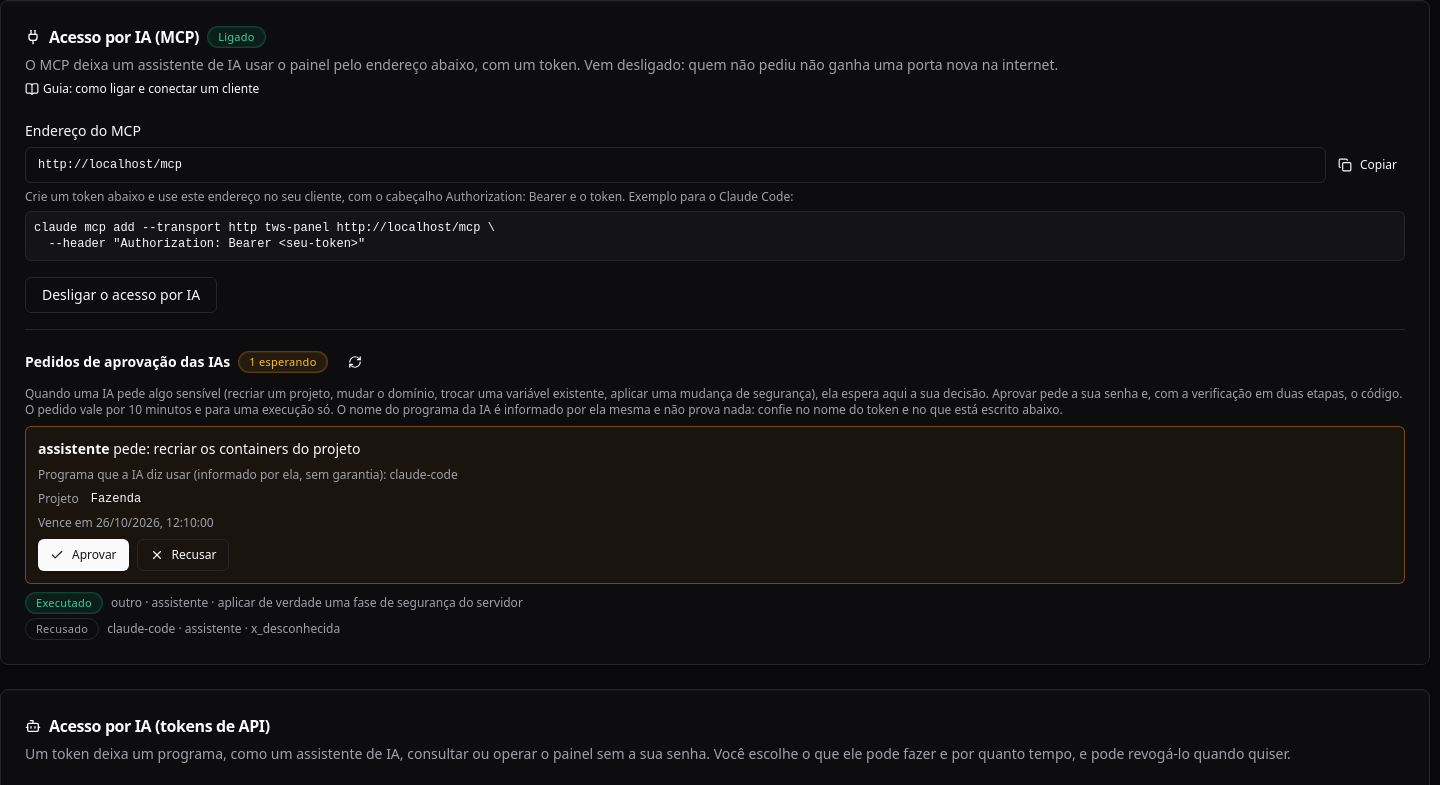
Scenario: MCP: pedidos de aprovação › erros de aprovar e recusar aparecem no próprio pedido; erro de lista fica no bloco
The width and height of the screenshot is (1440, 785).
Click the button "Recusar". click: click(183, 555)
box: [137,539,230,571]
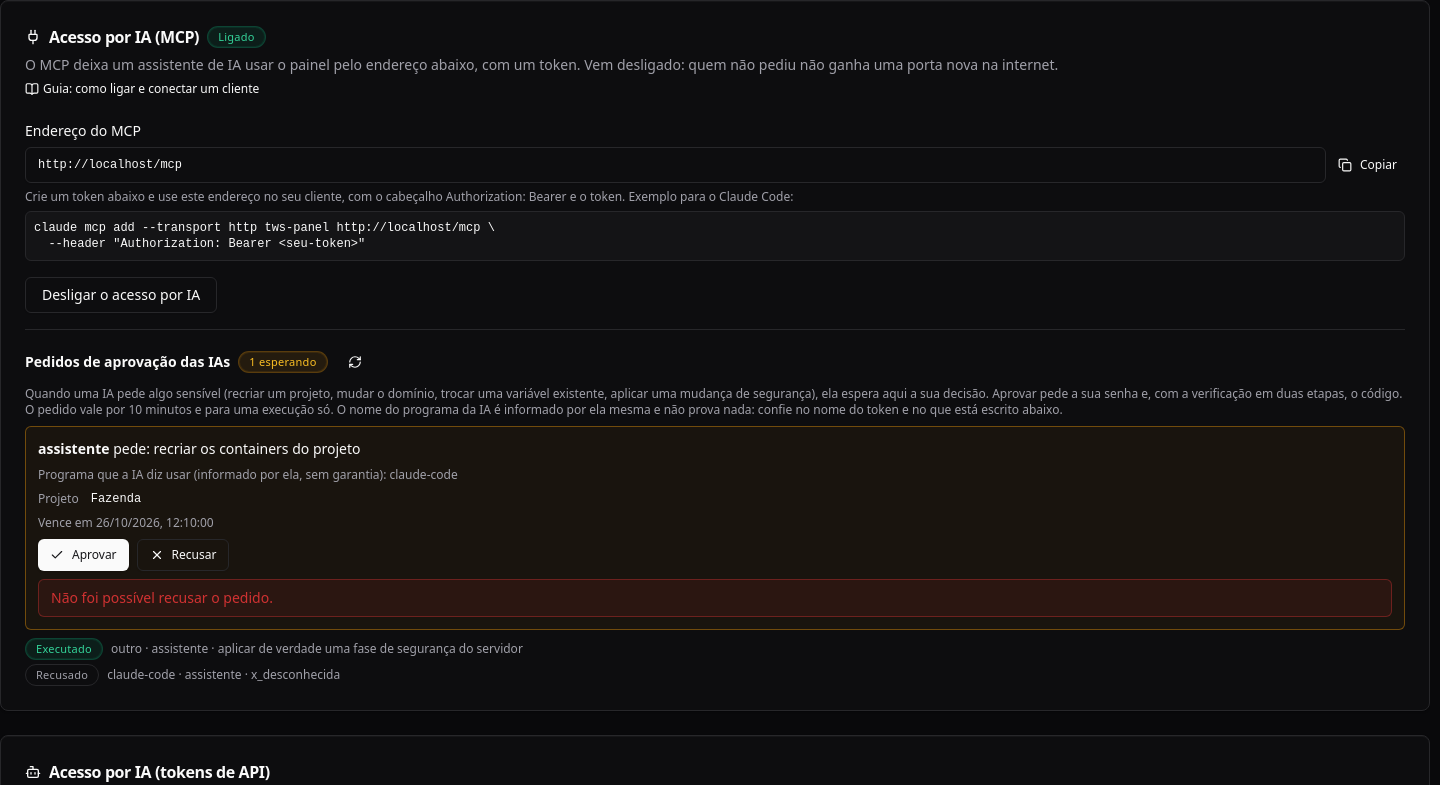
Now the message reads "Não foi possível recusar o pedido.", box [51,588,273,607]
Click the button "Aprovar". click: click(83, 555)
box: [38,539,129,571]
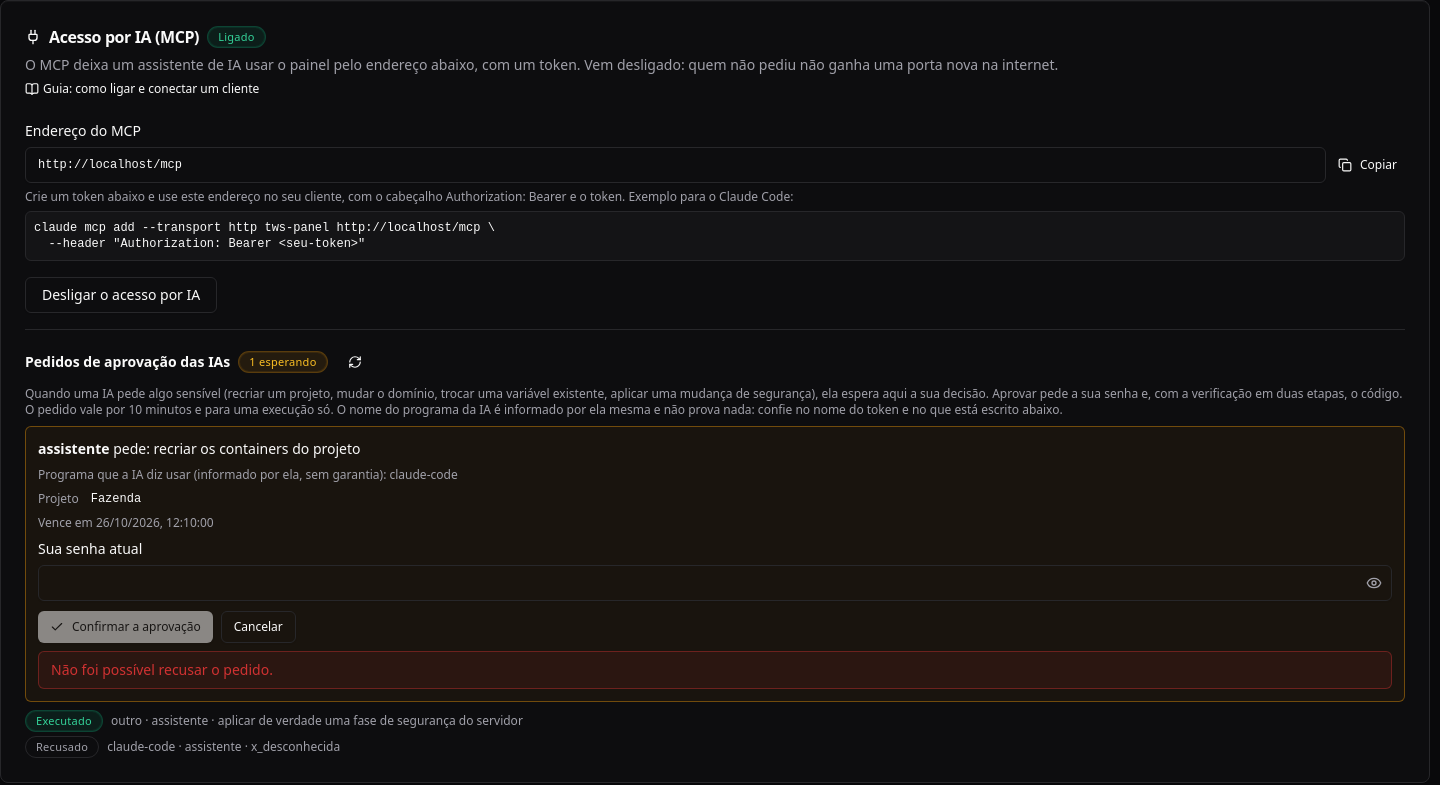
Type "x" into the password field labelled "Sua senha atual". click: (715, 583)
box: [38,565,1392,601]
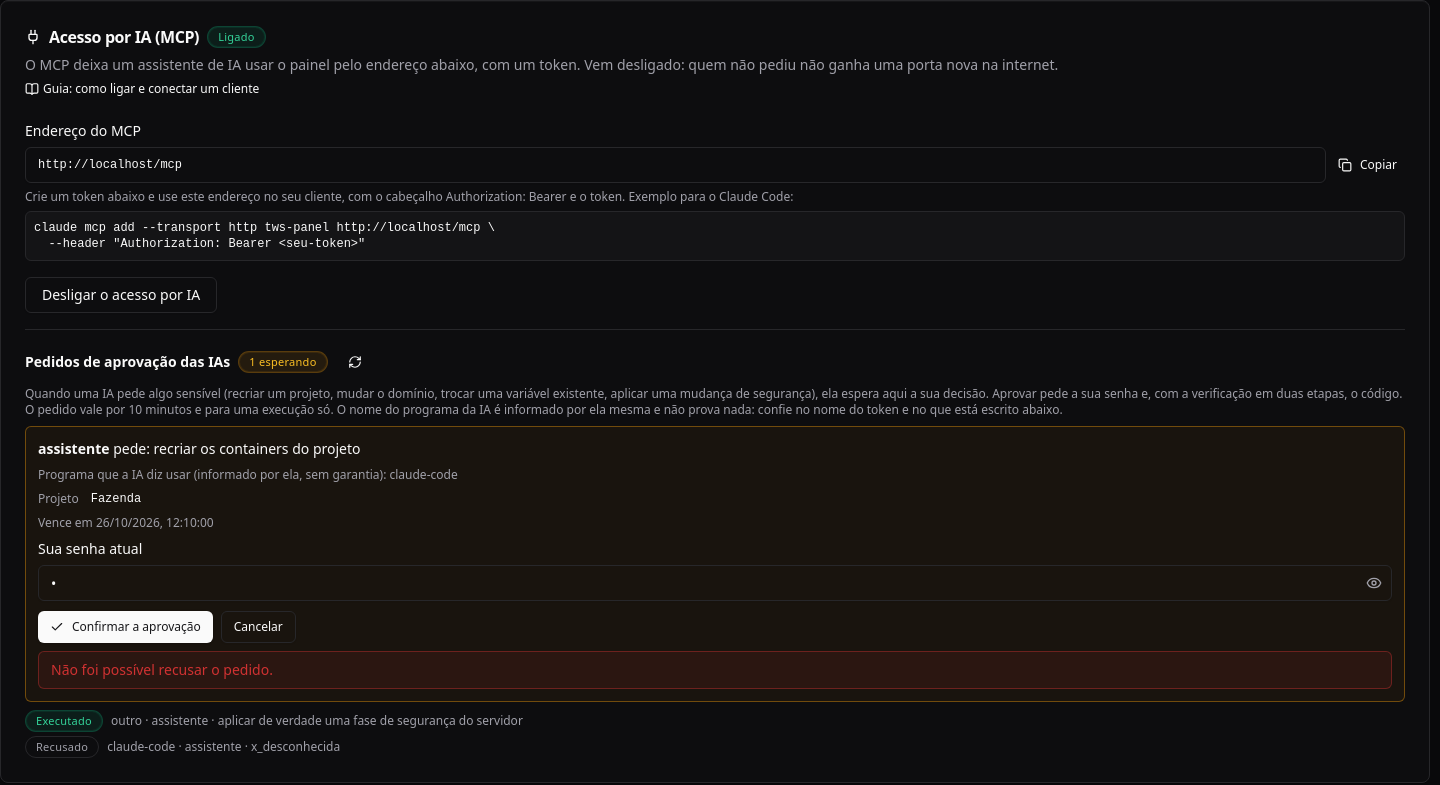
Click the button "Confirmar a aprovação". click: click(125, 627)
box: [38,611,213,643]
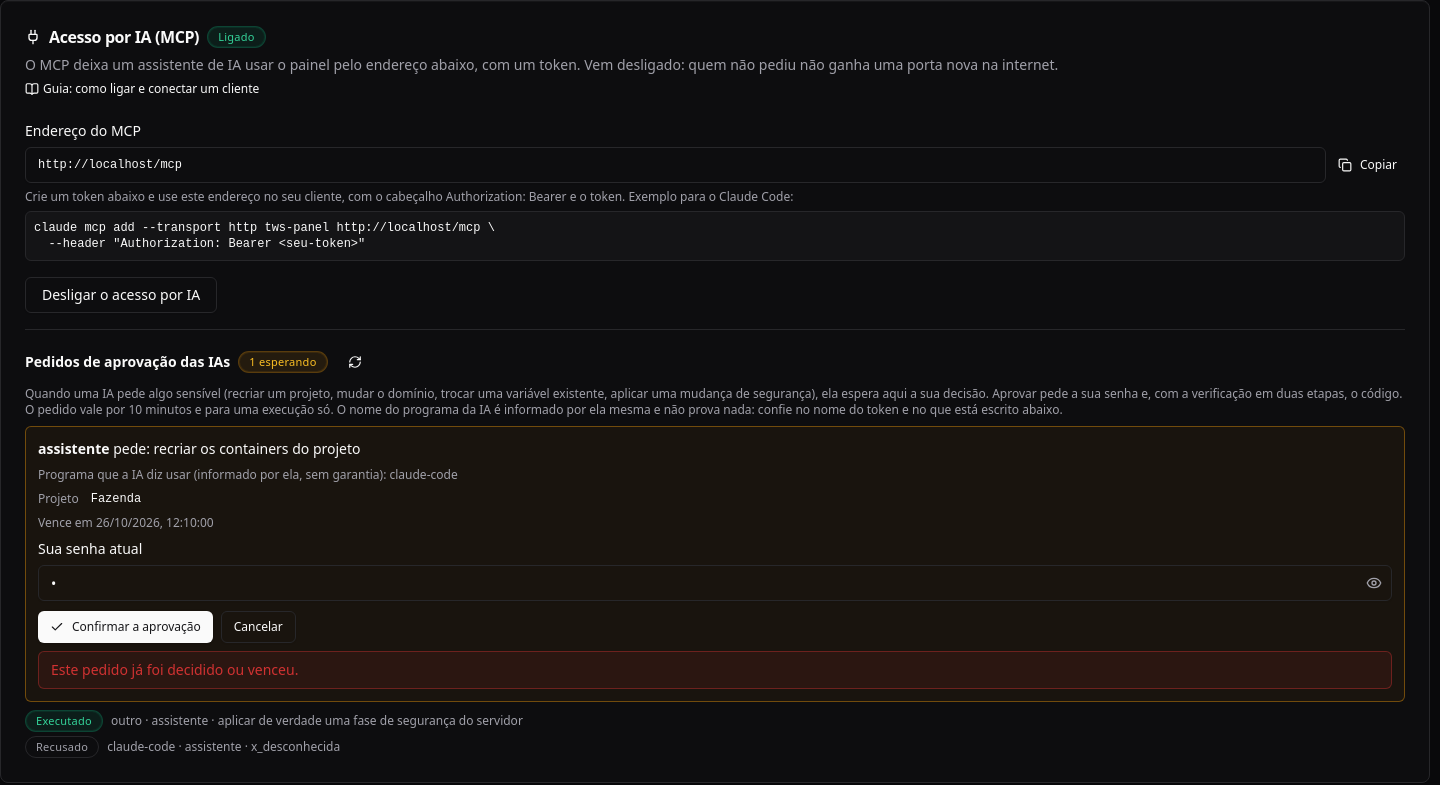
Now the message shows "já foi decidido", box [51,660,298,679]
Click the button named "Atualizar a lista de pedidos". click: click(355, 362)
box: [336,346,374,378]
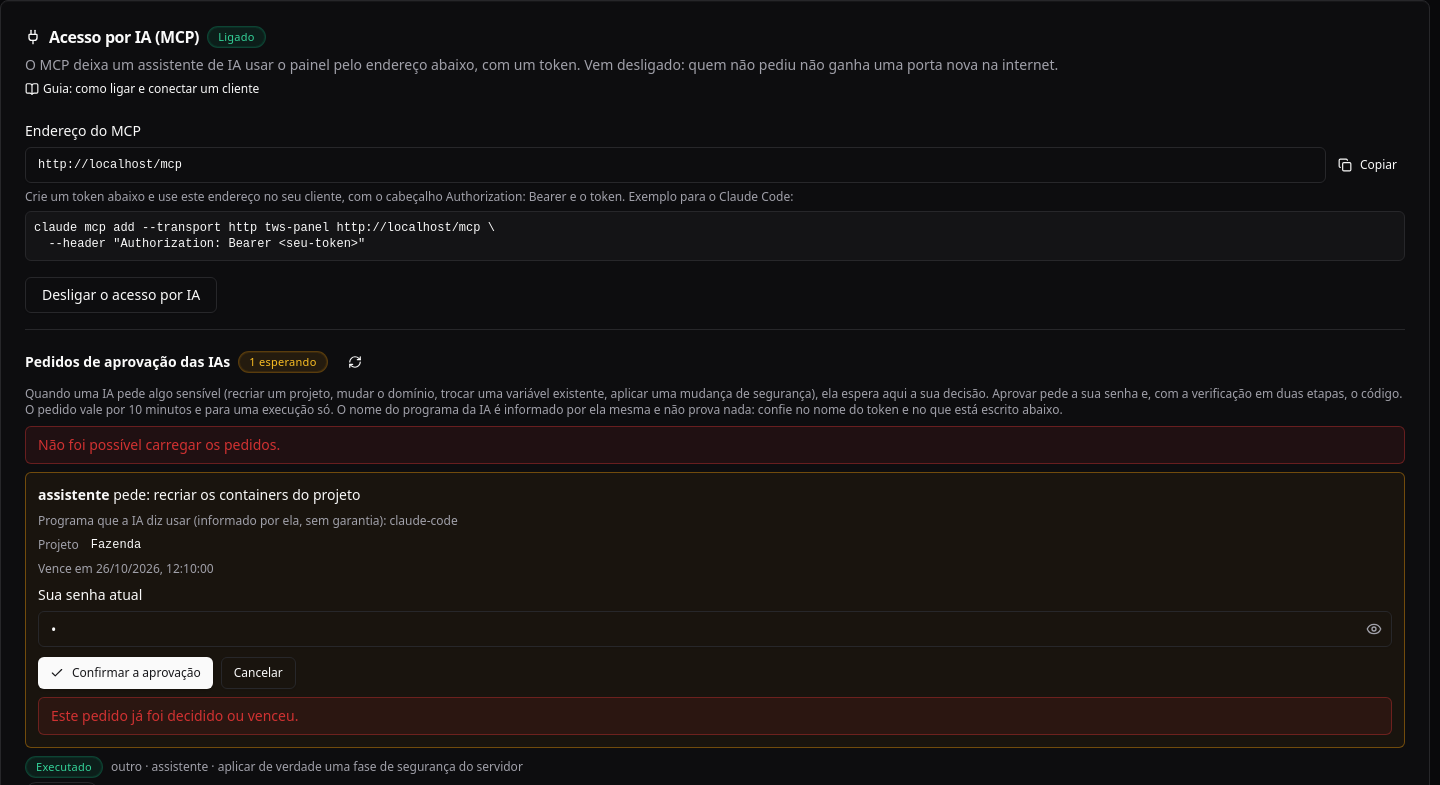
Now the text "Não foi possível carregar os pedidos." is shown, box [25,426,1405,464]
